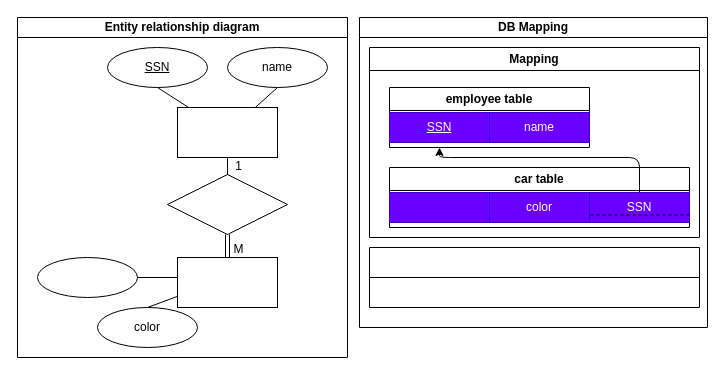
Some shapes in this 725 by 375 pixel diagram are drawn without their labels. Here are the shapes that lost their labels. From the top down, the centre of each, then its label:
(x=227, y=132): employee
(x=227, y=204): has
(x=439, y=207): car-number
(x=87, y=277): number
(x=227, y=282): car
(x=534, y=277): constraints file
